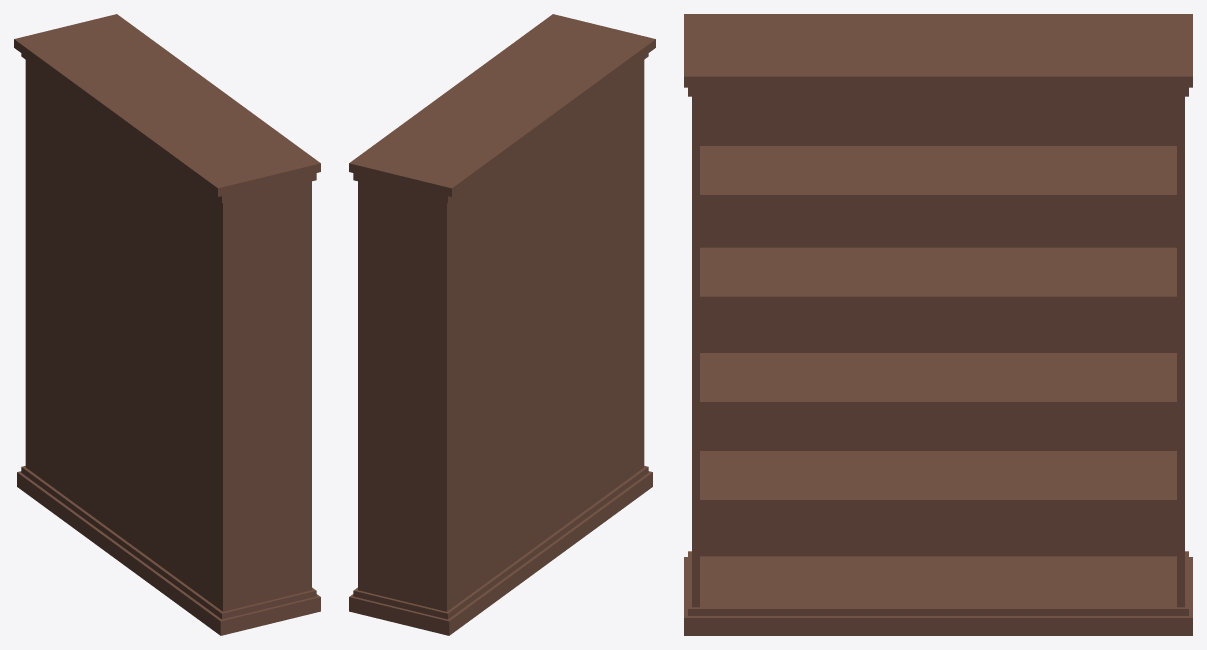
Rendered from wooden bookshelf 3.glb.
3 renders of one model, left to right at view 1: azimuth 30°, elevation 25°; view 2: azimuth 150°, elevation 25°; view 3: azimuth 270°, elevation 25°, orthographic. The views are drawn at different scales.
Visible parts, largest first — view 1: group1236096718, group601020356, group867109627, group2035373360, group804261949, group1457230194, group1736750755; view 2: group1236096718, group1992870748, group867109627, group2035373360, group804261949, group1457230194, group1465410725, group419263992, group85029991; view 3: group1236096718, group867109627, group804261949, group85029991, group419263992, group1465410725, group1736750755, group2035373360, group1457230194, group1992870748, group601020356.
Boxes of the visible parts, box(x1,y1,x2,y2) form: group1236096718: box(25, 60, 228, 611); group601020356: box(228, 181, 311, 610); group867109627: box(14, 14, 320, 196); group2035373360: box(17, 471, 320, 635); group804261949: box(21, 466, 316, 619); group1457230194: box(21, 53, 316, 203); group1736750755: box(228, 262, 309, 290); group1236096718: box(441, 60, 644, 611); group1992870748: box(358, 181, 441, 610); group867109627: box(349, 14, 655, 196); group2035373360: box(349, 471, 652, 635); group804261949: box(353, 466, 648, 619); group1457230194: box(353, 53, 648, 203); group1465410725: box(360, 428, 443, 456); group419263992: box(360, 506, 441, 534); group85029991: box(360, 343, 444, 371); group1236096718: box(700, 96, 1176, 556); group867109627: box(684, 14, 1192, 87); group804261949: box(688, 551, 1188, 615); group85029991: box(700, 247, 1176, 307); group419263992: box(700, 451, 1176, 510); group1465410725: box(700, 353, 1176, 412); group1736750755: box(700, 146, 1176, 205); group2035373360: box(684, 557, 1192, 635); group1457230194: box(688, 87, 1188, 96); group1992870748: box(1177, 96, 1184, 607); group601020356: box(692, 96, 699, 607).
Size of the model in its own units: 0.37 by 1.54 by 1.27.
